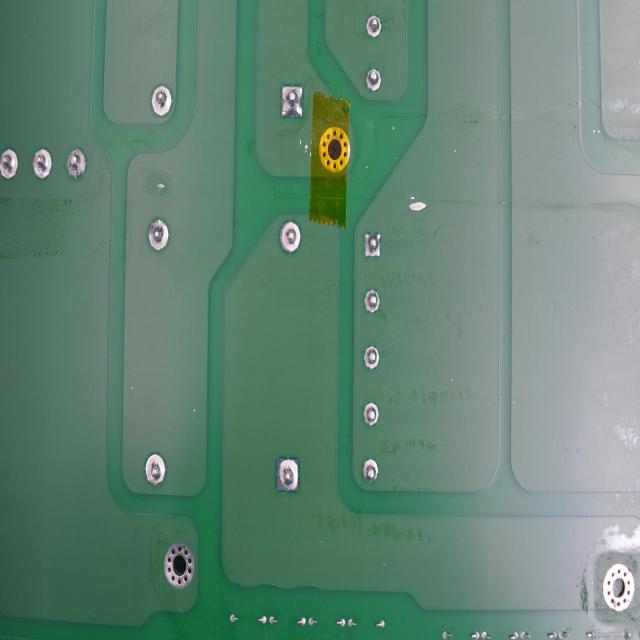spillover: (402, 195, 427, 220), (300, 133, 311, 162), (151, 179, 165, 194)
